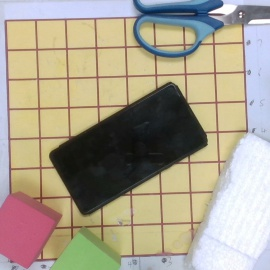phone: (47, 81, 208, 216)
